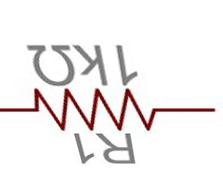resistor: (24, 87, 173, 131)
